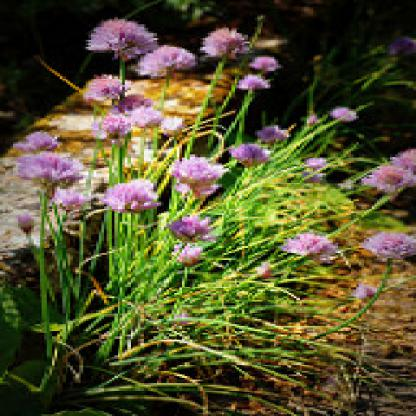Rose-Mawar: (72, 20, 233, 256), (282, 154, 414, 277)
